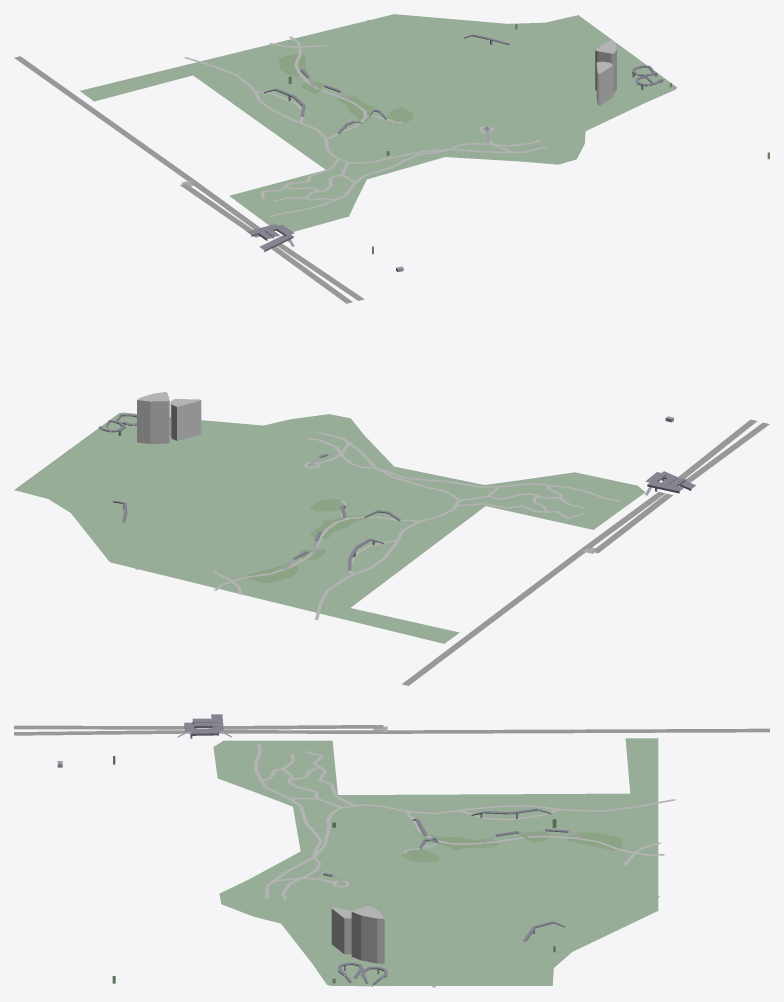
3 renders of one model, top to bottom at view 1: azimuth 30°, elevation 25°; view 2: azimuth 150°, elevation 25°; view 3: azimuth 270°, elevation 25°, orthographic. The views are drawn at different scales.
Size of the model in its own units: 510 by 42.07 by 618.
